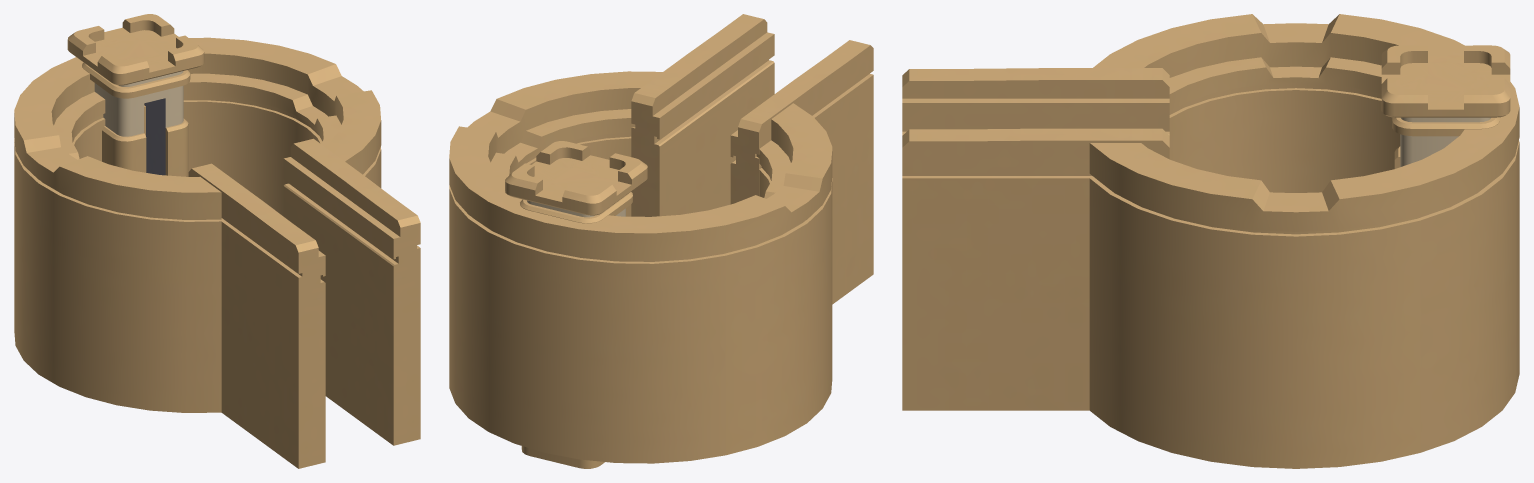
File: Fort-Restored.fbx
3 renders of one model, left to right at view 1: azimuth 30°, elevation 25°; view 2: azimuth 150°, elevation 25°; view 3: azimuth 270°, elevation 25°, orthographic. The views are drawn at different scales.
Visible parts, largest first — view 1: Fort-Restored; view 2: Fort-Restored; view 3: Fort-Restored.
Boxes of the visible parts, bbox=[...] form: Fort-Restored: bbox=[14, 14, 420, 468]; Fort-Restored: bbox=[449, 14, 873, 468]; Fort-Restored: bbox=[902, 14, 1519, 468].
Bounding box in the file's own units: 8474 × 6750 × 11688.
